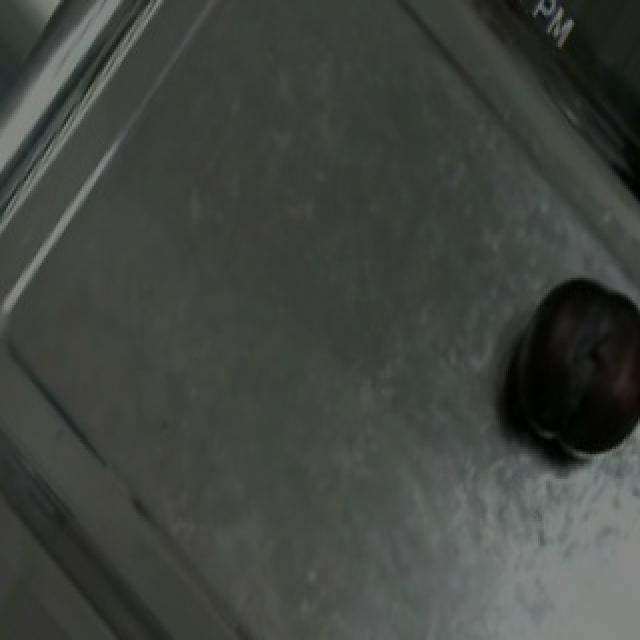Fruit: (494, 266, 640, 482)
